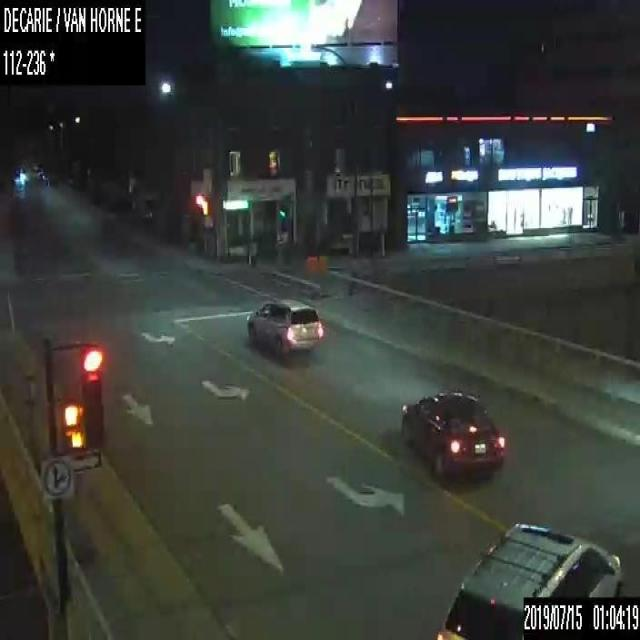construction: (19, 375, 40, 458), (304, 254, 316, 298), (317, 254, 328, 297)
vehicle: (434, 520, 624, 639), (400, 388, 505, 480), (244, 296, 324, 359)
